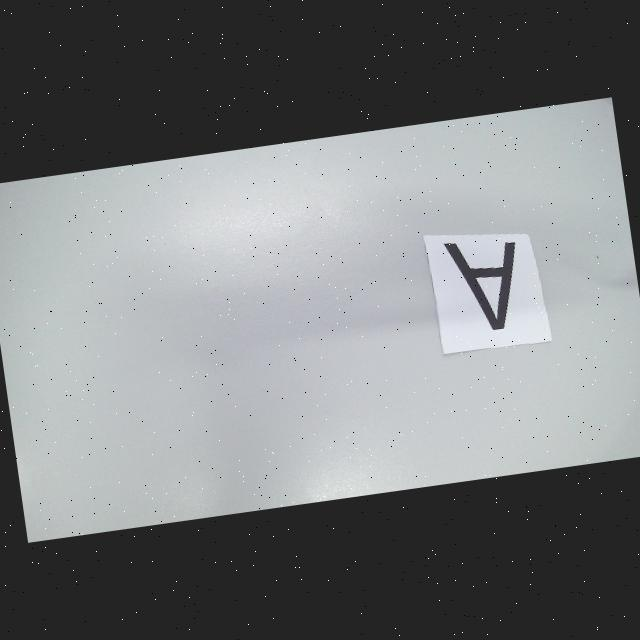FAKE: (444, 233, 527, 336)
